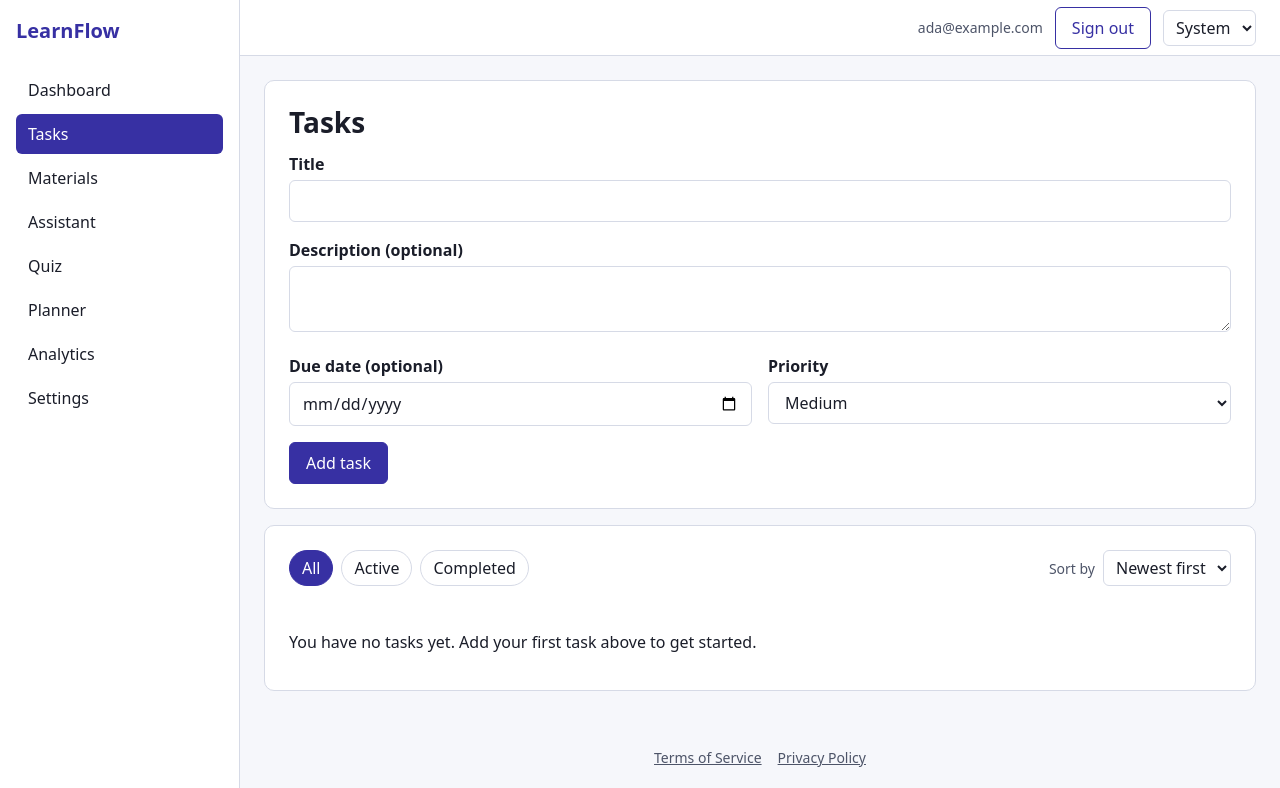
Test case: dashboard › refreshes the counts after a task is added
This screenshot has width=1280, height=788.
Type "Counted" into the field labelled "Title". click: (760,201)
box: [289, 180, 1231, 222]
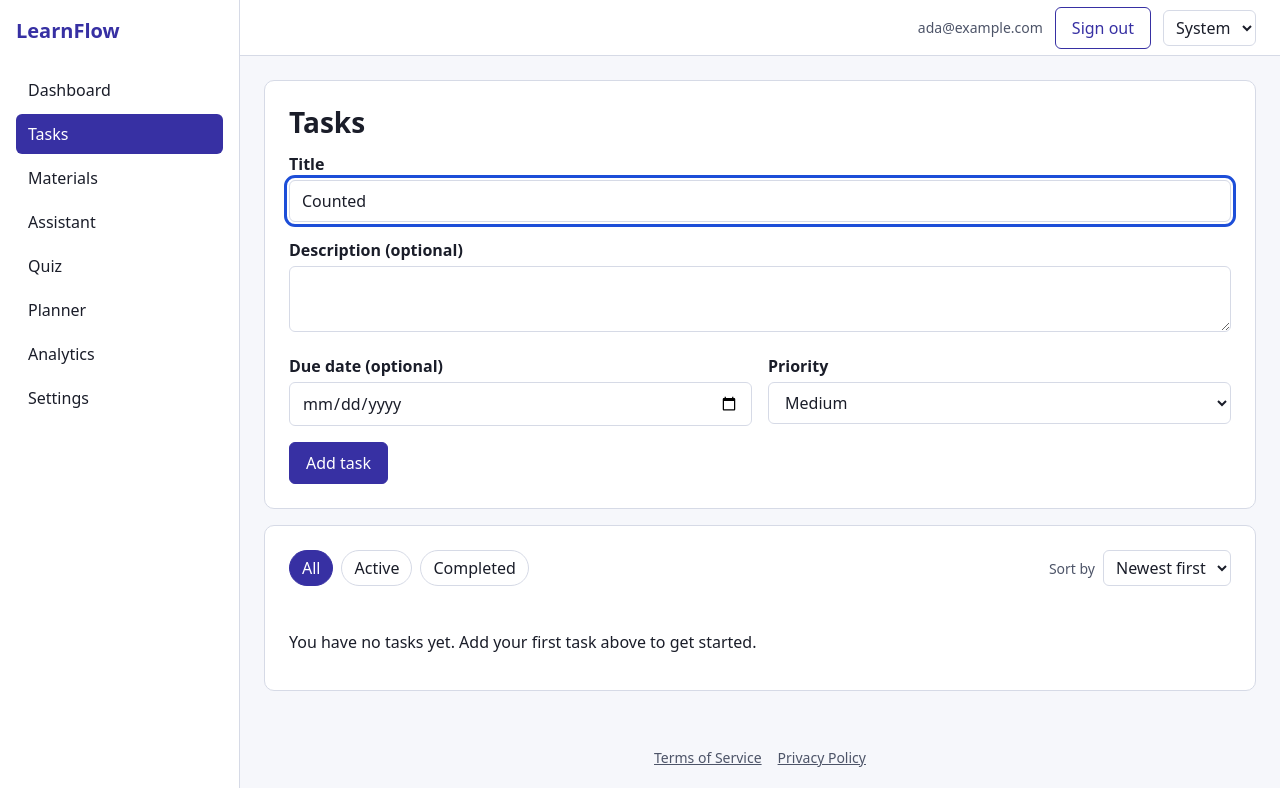
Click the button "Add task". click: (338,463)
box: [289, 442, 388, 484]
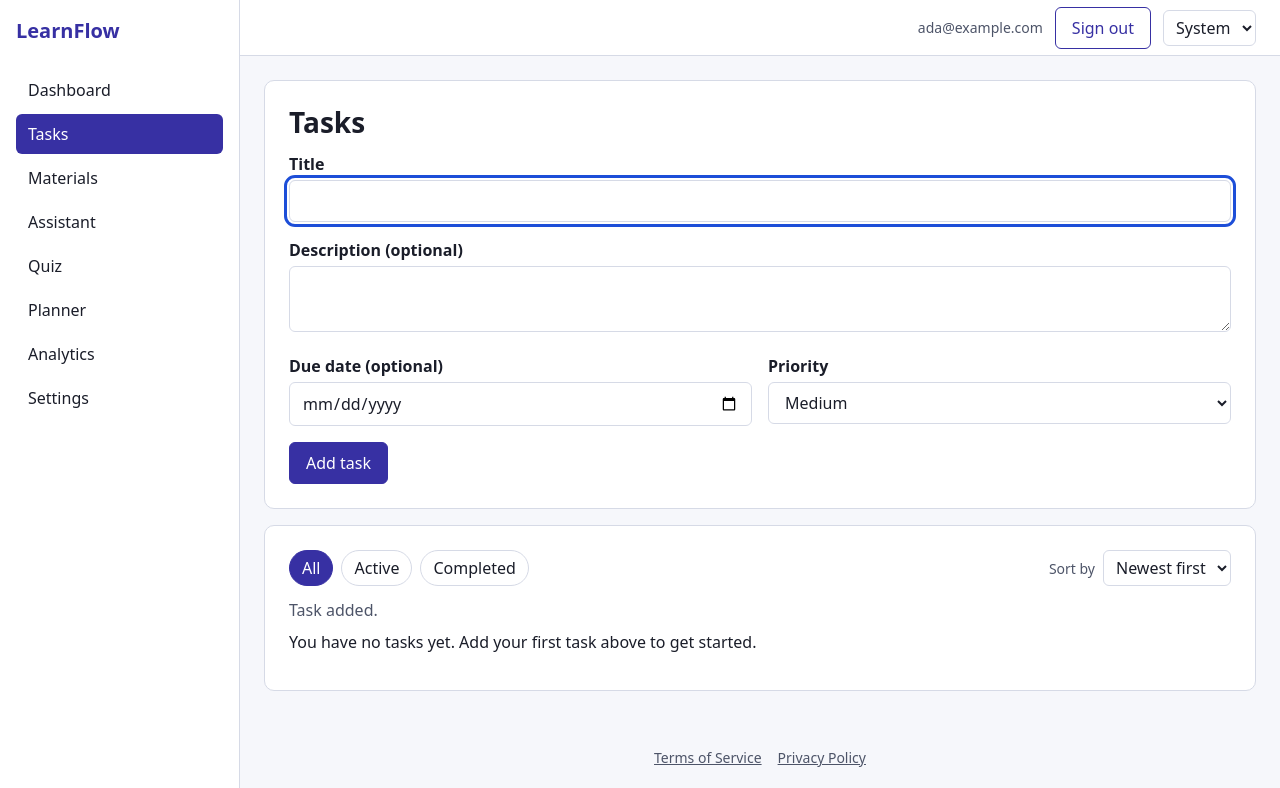
Check: the text "Task added." is shown, box [289, 599, 378, 621]
Click the link "Dashboard". click: (69,90)
box: [28, 79, 111, 101]
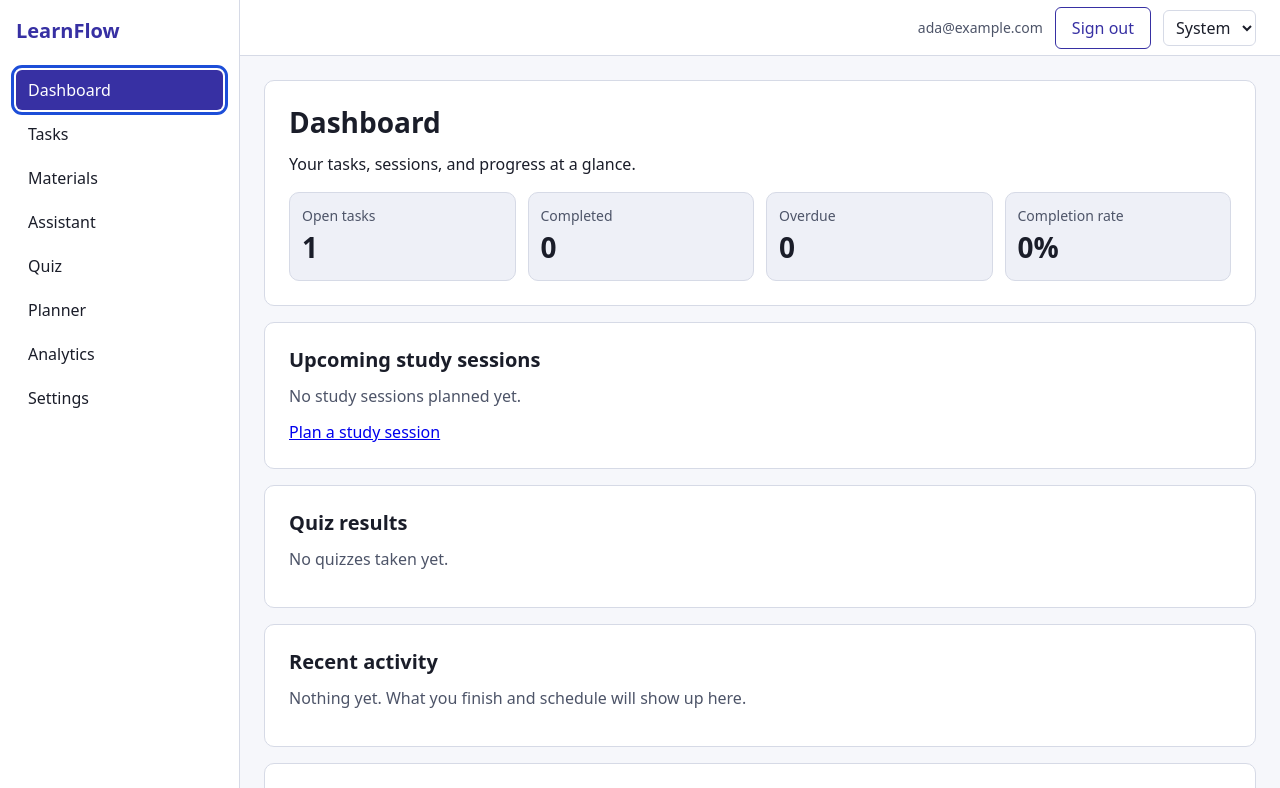
Check: the text "1" is shown, box [302, 228, 318, 266]
